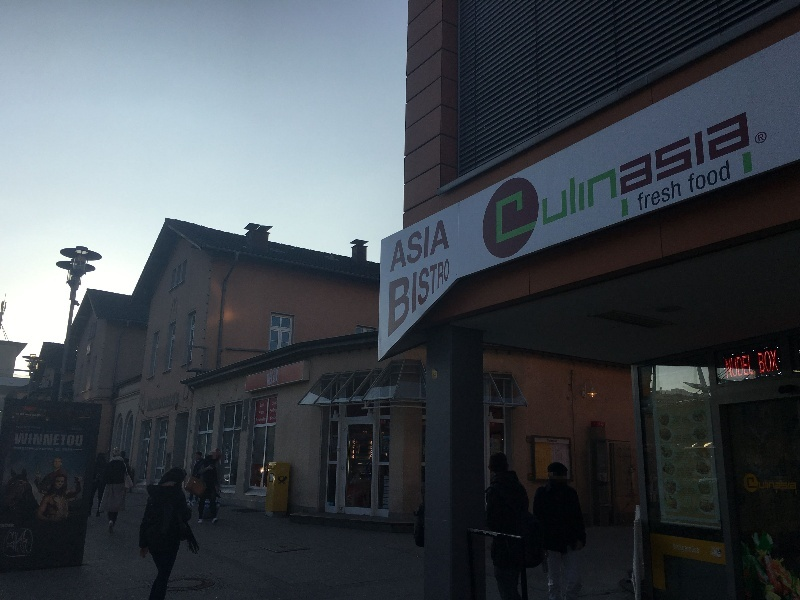text: (625, 109, 640, 198), (641, 109, 656, 198), (657, 109, 672, 198), (673, 109, 688, 198), (689, 109, 704, 198), (705, 109, 720, 198), (721, 109, 736, 198), (737, 109, 751, 198), (497, 164, 512, 247), (513, 164, 528, 247), (529, 164, 544, 247), (545, 164, 560, 247), (561, 164, 576, 247), (577, 164, 592, 247), (593, 164, 608, 247), (401, 258, 416, 340), (417, 258, 432, 340), (433, 258, 448, 340), (389, 258, 400, 340), (401, 219, 416, 275), (417, 219, 432, 275), (433, 219, 448, 275), (609, 164, 618, 247), (689, 160, 704, 194), (705, 160, 720, 194), (641, 179, 656, 212), (657, 179, 672, 212), (619, 109, 624, 198), (737, 355, 752, 379), (721, 160, 731, 194), (161, 391, 176, 413), (673, 179, 682, 212), (725, 355, 736, 379), (149, 391, 160, 413), (758, 350, 768, 374), (396, 219, 400, 275), (769, 350, 778, 374), (17, 433, 32, 447), (33, 433, 48, 447), (49, 433, 64, 447), (65, 433, 80, 447), (753, 477, 768, 491), (769, 477, 784, 491), (785, 477, 797, 491), (673, 543, 688, 554), (689, 543, 700, 554), (449, 219, 451, 275), (757, 133, 768, 143), (273, 369, 279, 387), (637, 179, 640, 212), (273, 400, 288, 406), (449, 258, 450, 340), (257, 417, 272, 422), (268, 369, 272, 387), (747, 477, 752, 491), (173, 296, 176, 319), (141, 392, 144, 415), (177, 391, 180, 413), (1, 524, 16, 528), (261, 403, 272, 408), (259, 411, 272, 415), (547, 439, 560, 443), (17, 413, 32, 416), (81, 433, 84, 447), (687, 160, 688, 194), (33, 414, 41, 417), (753, 355, 754, 379), (177, 296, 178, 319), (145, 392, 146, 415), (273, 408, 277, 413), (273, 416, 277, 421), (25, 414, 32, 416), (15, 433, 16, 447), (271, 408, 272, 413), (271, 416, 272, 421), (31, 414, 32, 417)
